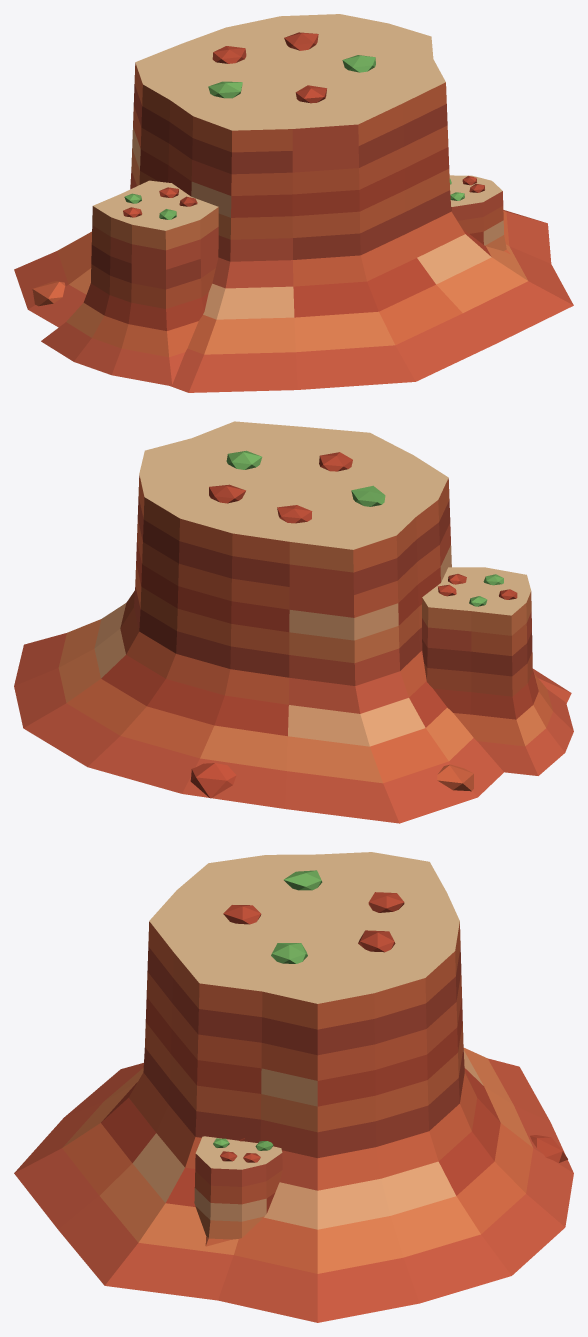
The model's file is mesa.glb.
3 renders of one model, top to bottom at view 1: azimuth 30°, elevation 25°; view 2: azimuth 150°, elevation 25°; view 3: azimuth 270°, elevation 25°, orthographic. The views are drawn at different scales.
Parts seen in each view (by area): view 1: mesa; view 2: mesa; view 3: mesa.
Part boxes in pixels (<box>): mesa: <box>14,14,573,392</box>; mesa: <box>14,421,573,823</box>; mesa: <box>14,852,573,1322</box>.
Bounding box in the file's own units: 98.74 × 42.39 × 81.45.
Materials: 1 (1 with a texture image).
